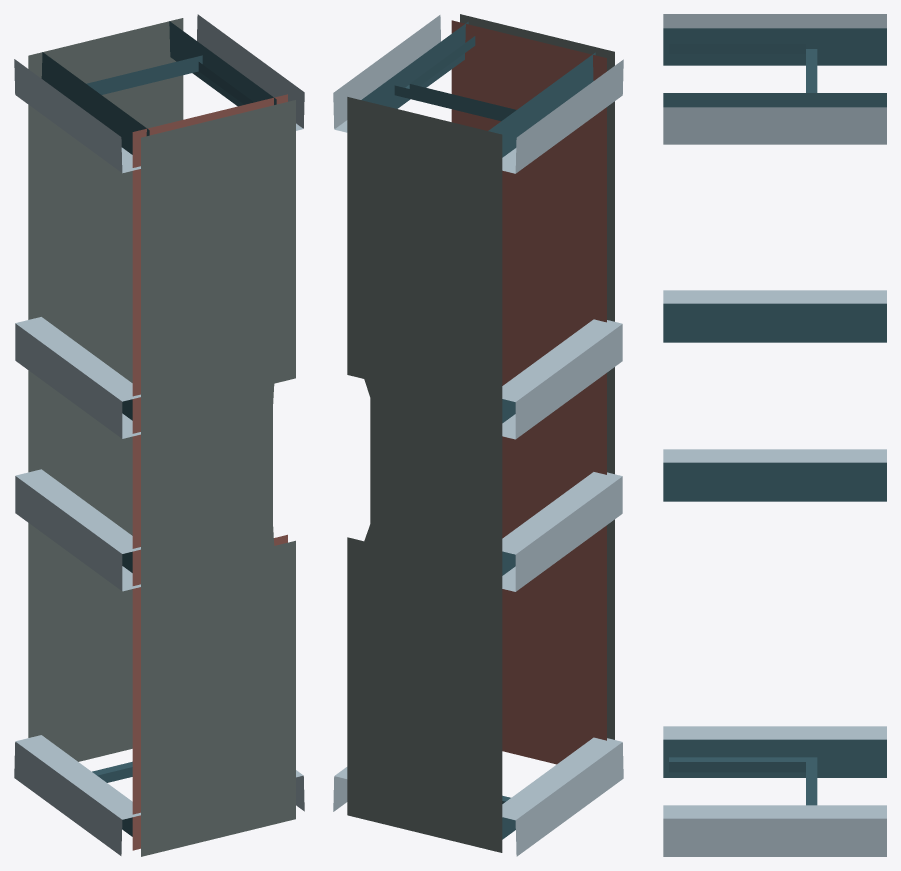
File: SM_000234_w40h003_001roka_wall02_lv2.fbx
3 views of the same model, side by side, from view 1: azimuth 30°, elevation 25°; view 2: azimuth 150°, elevation 25°; view 3: azimuth 270°, elevation 25° (orthographic). The views are drawn at different scales.
Visible parts, largest first — view 1: SM_000234.001; view 2: SM_000234.001; view 3: SM_000234.001.
Part boxes in pixels (x1,y1,x2,y2): SM_000234.001: (14,14,304,856); SM_000234.001: (333,14,623,856); SM_000234.001: (663,14,886,856).
Size of the model in its own units: 3.9 by 14.62 by 4.15.
